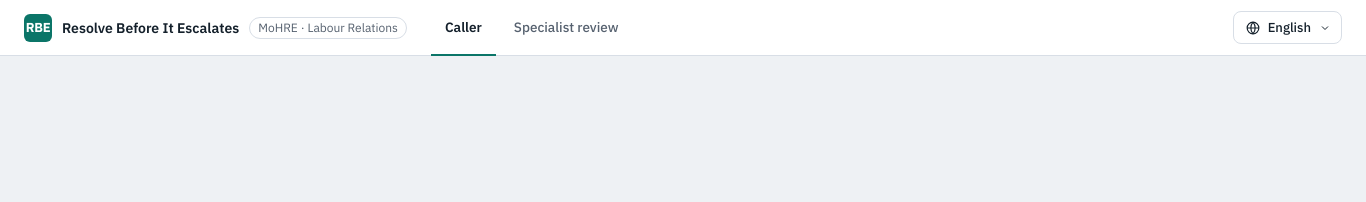
LanguageMenu › closes when the caller clicks elsewhere
This screenshot has width=1366, height=202.
What coordinates should you click on to do the following:
click the button
I would click on:
 (1287, 28)
Its box is [1233,11,1342,44].
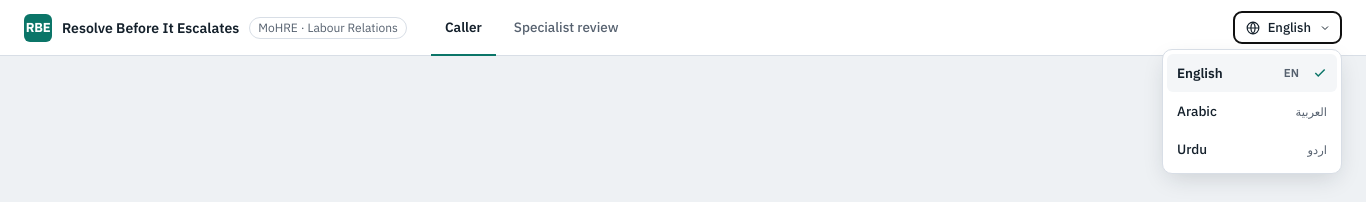
What coordinates should you click on to do the following:
click the element that starts with "RBE"
I would click on:
 (683, 28)
Its box is [0,0,1365,56].
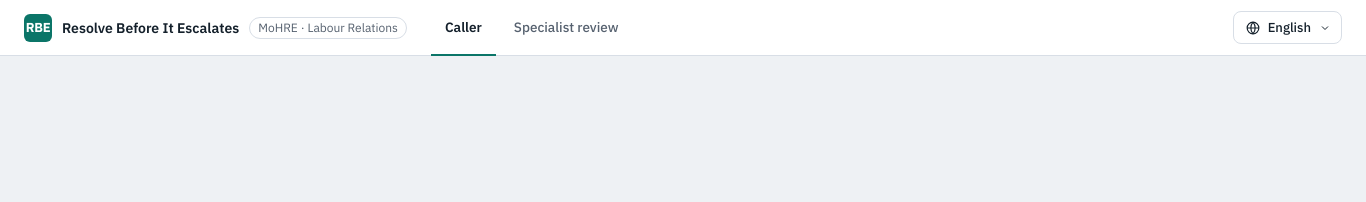
Result: the list is gone
